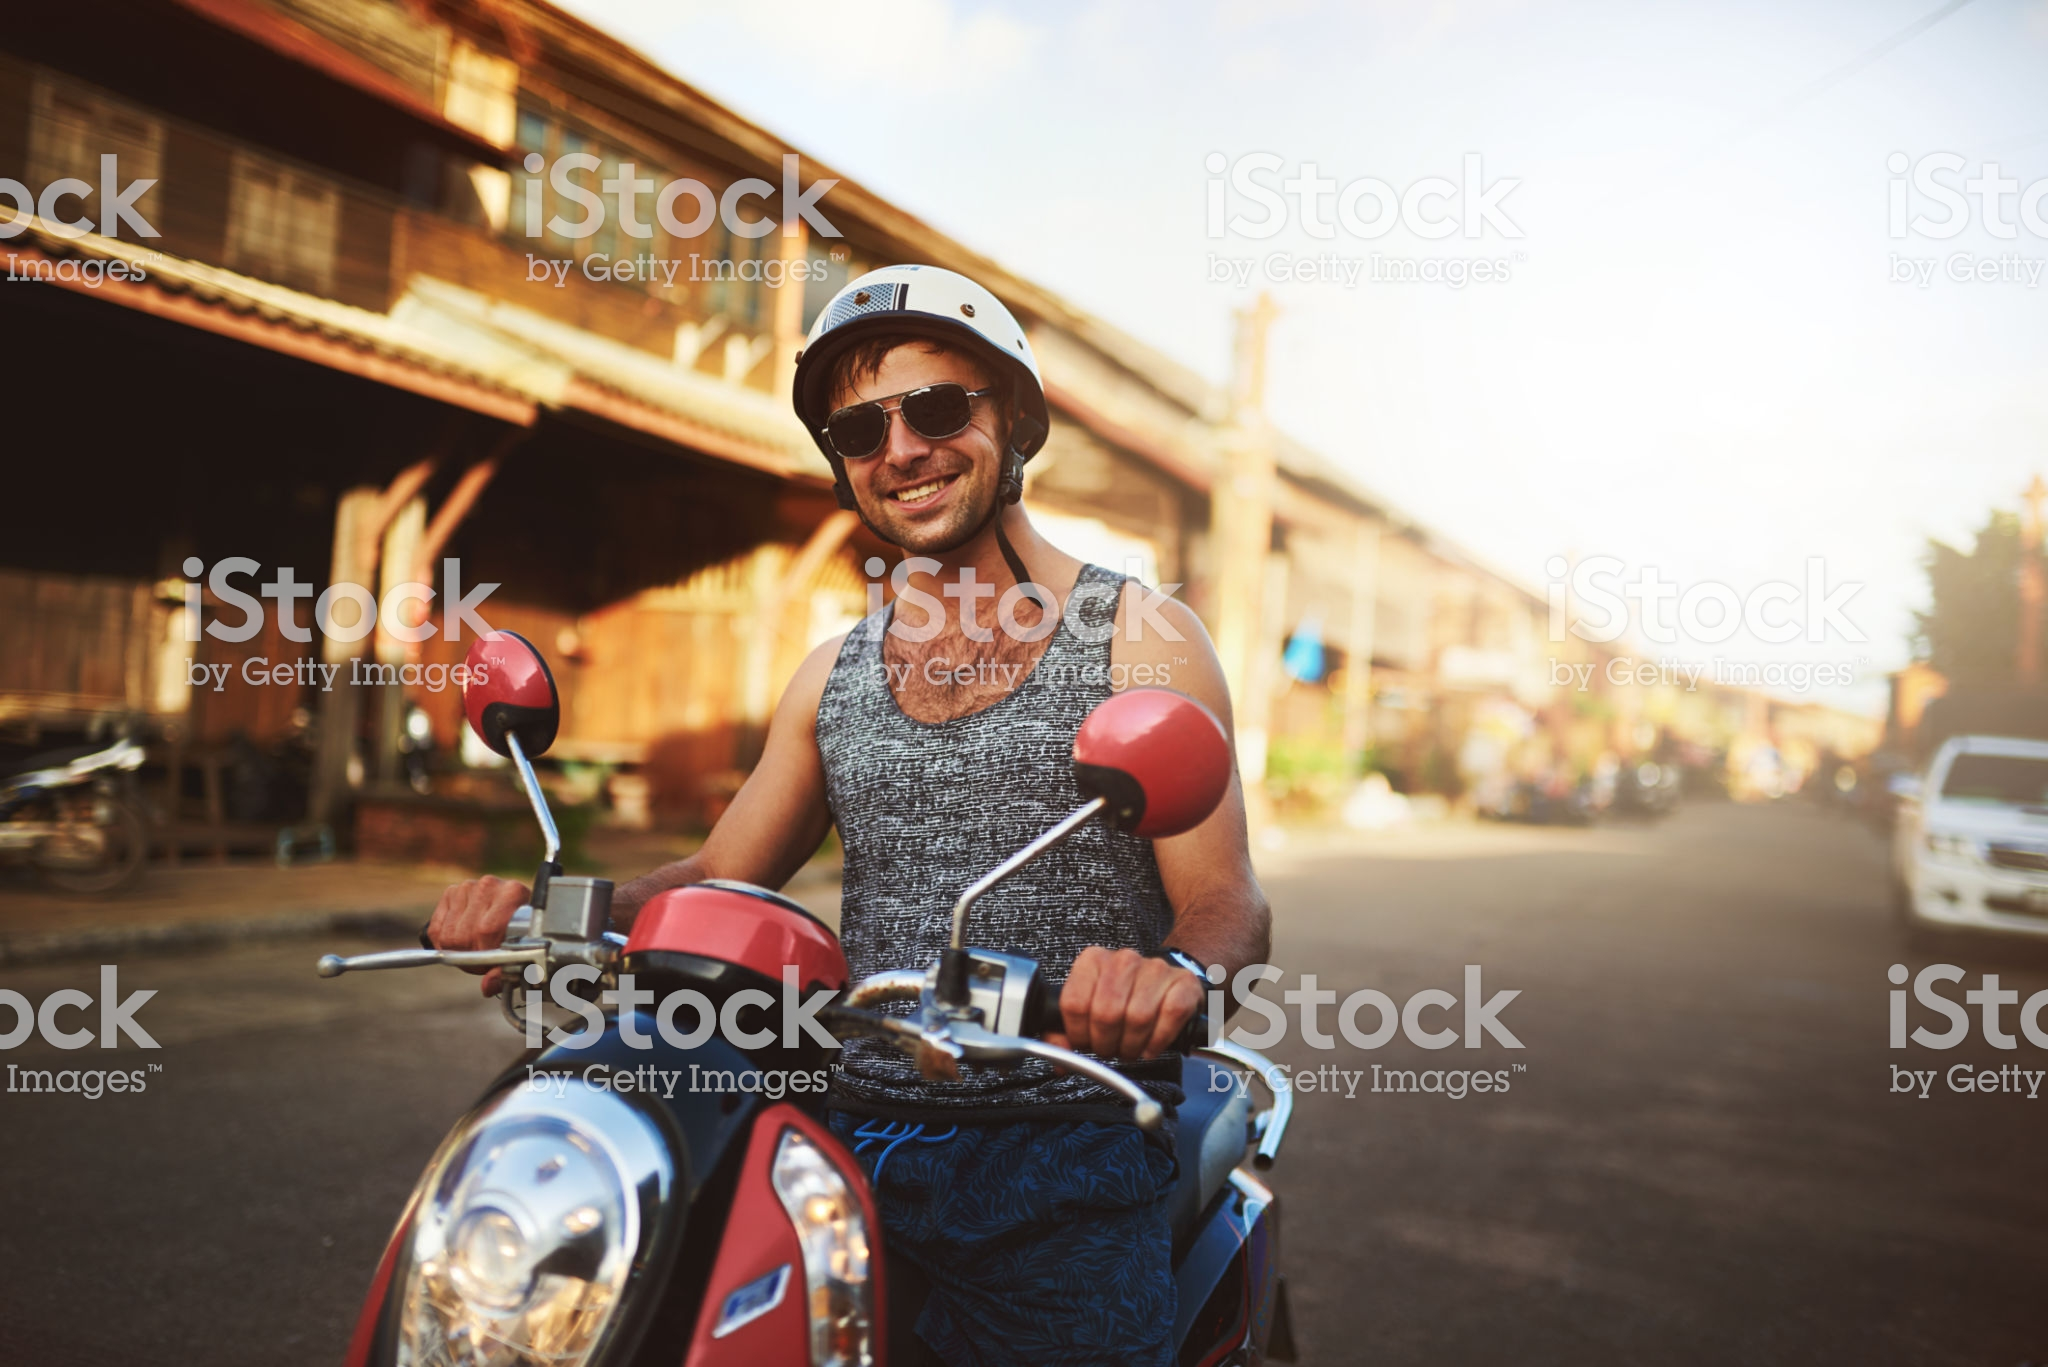helmet: (802, 270, 1075, 380)
